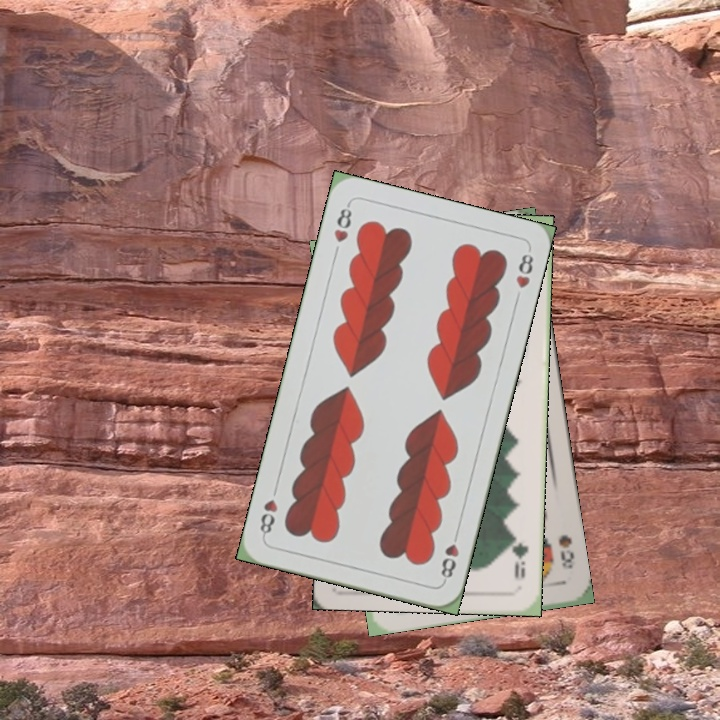G9: (507, 530, 531, 581)
H8: (436, 526, 462, 585), (330, 200, 355, 245)
S8: (554, 530, 577, 572)
